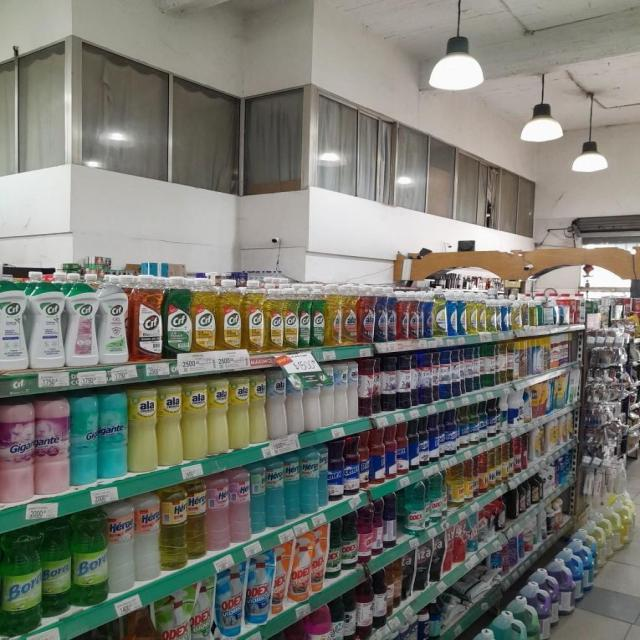ala_conc_amarillo: (326, 285, 342, 346), (342, 285, 357, 345)
ala_conc_azul: (375, 288, 386, 342), (387, 289, 397, 342)
ala_conc_rojo: (358, 286, 374, 343), (408, 289, 419, 340), (398, 289, 408, 341)
ala_crem_amarillo: (129, 385, 157, 473), (183, 378, 208, 460), (158, 382, 182, 466), (208, 375, 228, 456), (229, 374, 249, 450), (250, 371, 267, 444)
ala_crem_blanco: (268, 368, 287, 440), (304, 366, 321, 431), (288, 368, 304, 435), (321, 365, 334, 427), (336, 362, 348, 424), (348, 360, 359, 421)
ala_crem_rosado: (0, 403, 34, 504)
cif_conc_bot_amarilla: (217, 278, 242, 352), (192, 277, 216, 354), (243, 282, 264, 352), (265, 285, 283, 351), (284, 287, 298, 350)
cif_conc_botella_roja: (130, 274, 163, 362)
cif_conc_botella_verde: (164, 276, 192, 356), (298, 288, 311, 348), (312, 287, 325, 347)
heroe: (35, 394, 69, 496), (99, 390, 128, 480), (108, 500, 134, 594), (160, 484, 186, 572), (135, 493, 159, 583), (207, 474, 229, 551), (230, 468, 250, 544), (187, 480, 205, 562)
magistral_con_amarillo: (468, 294, 478, 334), (488, 296, 498, 332), (512, 294, 522, 330), (478, 296, 487, 333)
magistral_con_azul: (433, 288, 447, 337), (421, 288, 433, 338), (447, 290, 457, 337), (458, 292, 467, 336)
